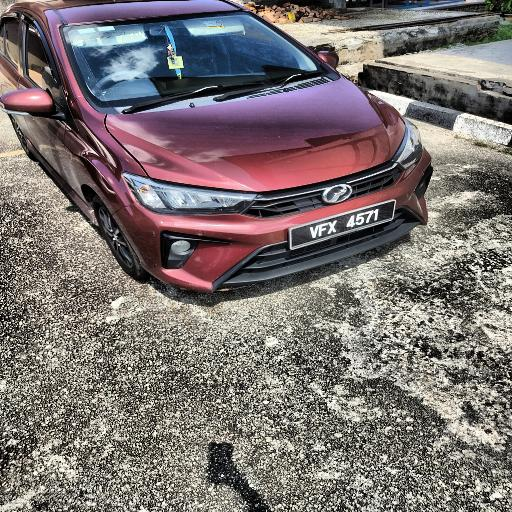license_plate: (290, 200, 394, 253)
